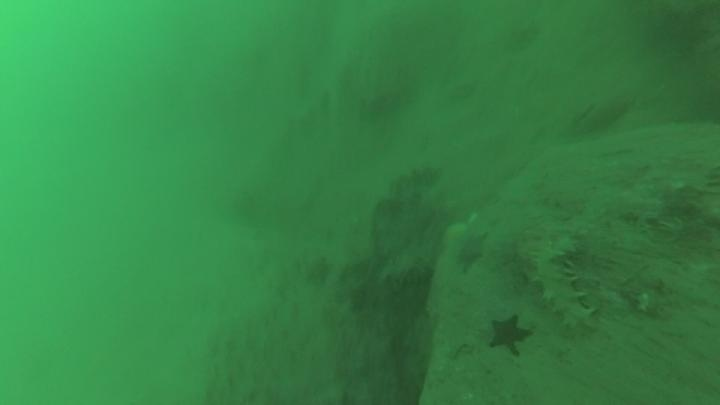holothurian: (519, 230, 599, 336)
starfish: (484, 311, 536, 359), (451, 228, 492, 278)
